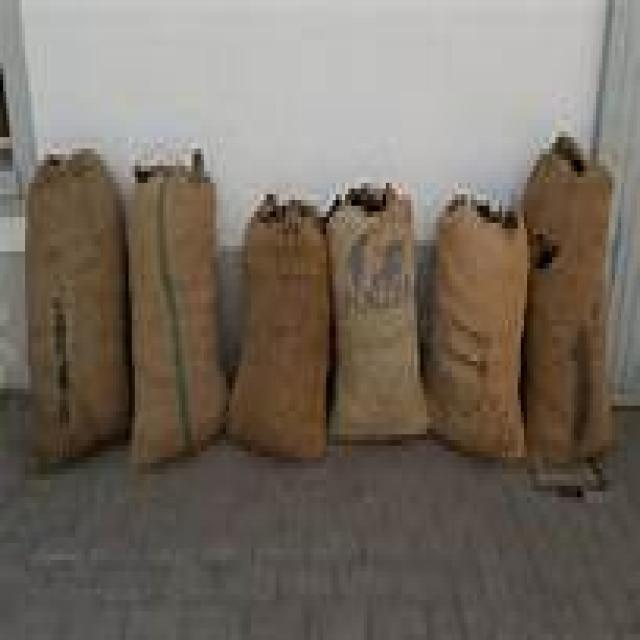gunny_bag: (21, 156, 138, 473), (518, 130, 621, 467), (119, 162, 229, 470), (221, 192, 336, 460), (323, 181, 434, 444), (426, 200, 534, 463)
